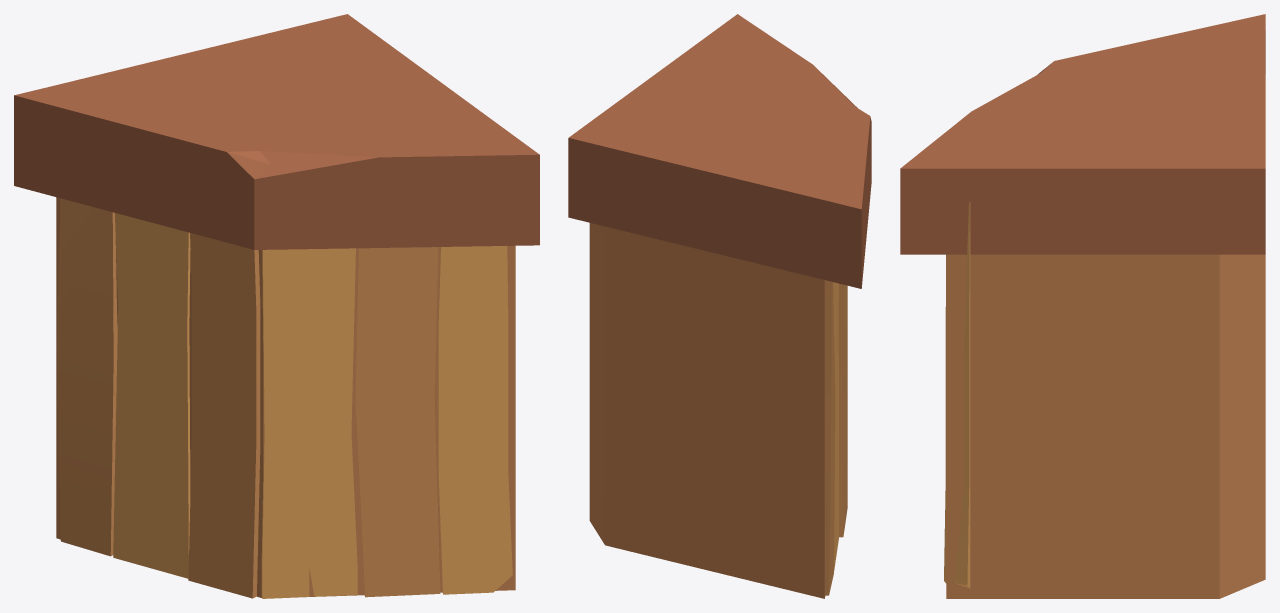
File: bar corner.fbx
The picture shows the model from 3 angles, left to right: view 1: azimuth 30°, elevation 25°; view 2: azimuth 150°, elevation 25°; view 3: azimuth 270°, elevation 25°; orthographic projection. The views are drawn at different scales.
Parts seen in each view (by area): view 1: polySurface200; view 2: polySurface200; view 3: polySurface200.
Boxes of the visible parts, left/top/right/bottom form: polySurface200: left=14, top=14, right=539, bottom=598; polySurface200: left=568, top=14, right=871, bottom=598; polySurface200: left=900, top=14, right=1265, bottom=598.
Size of the model in its own units: 1.02 by 1.3 by 1.
